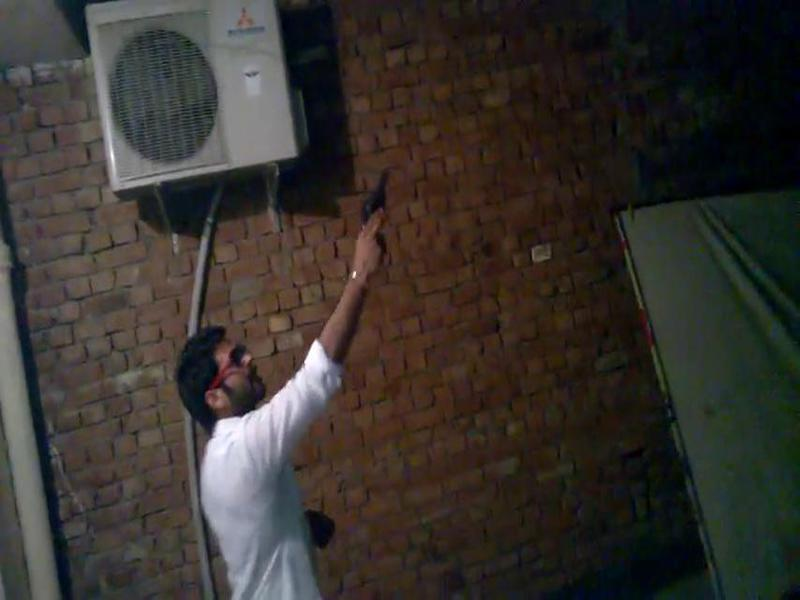Revolver: (352, 161, 411, 283)
